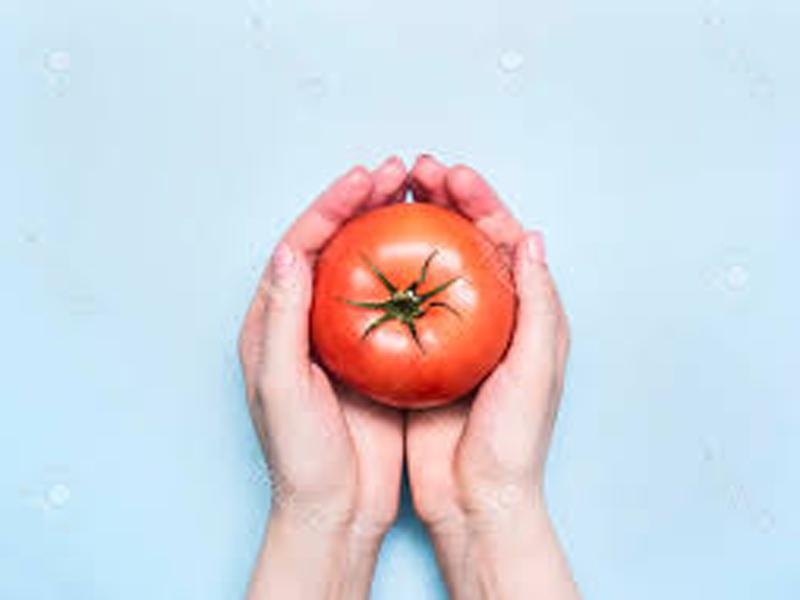Tomato: (305, 203, 516, 406)
